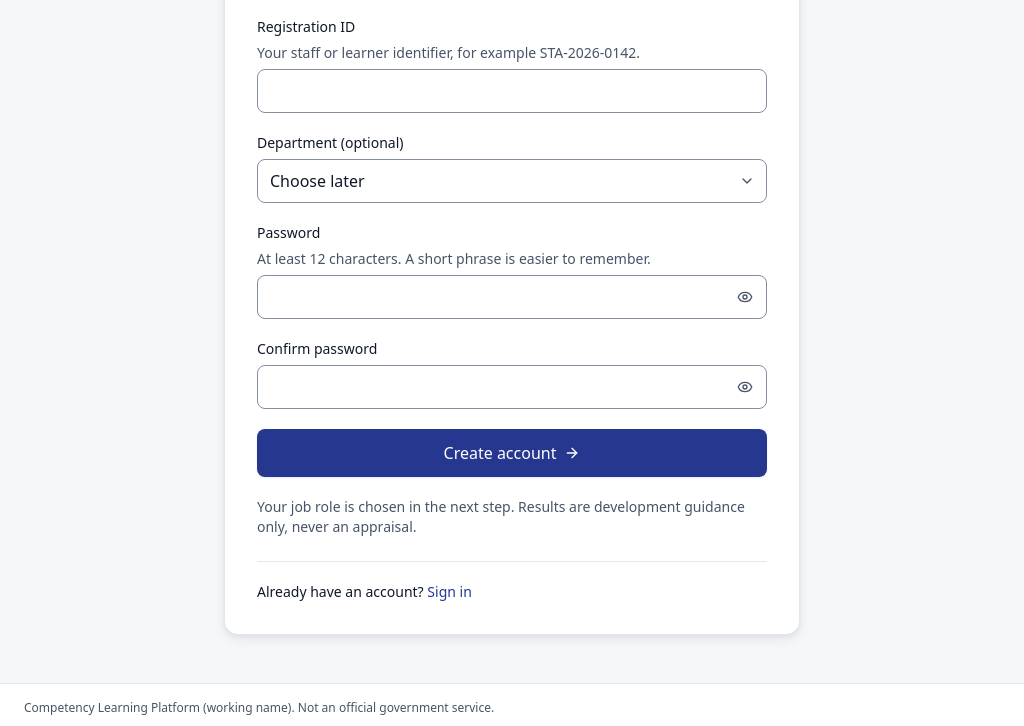
registration › validates every field before sending and links the summary to fields
(page scrolled)
Step 1. Click the button "Create account" → (512, 453), box 257,429 -> 767,477
(page scrolled)
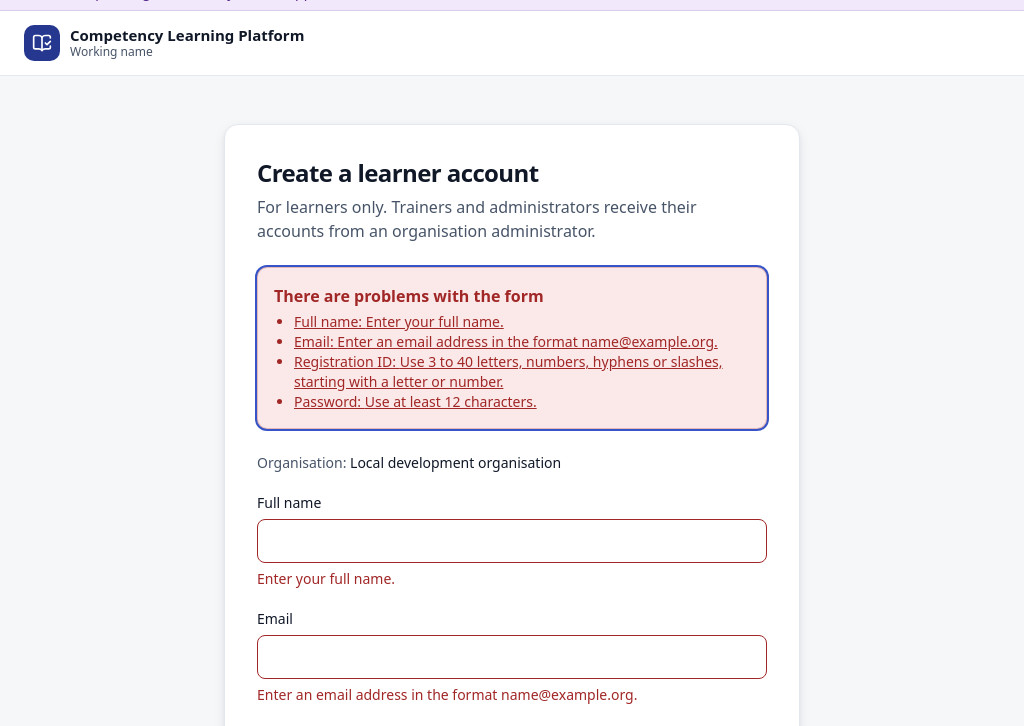
Expected: the link "Password: Use at least 12 characters." is shown, 294,392 -> 537,411
